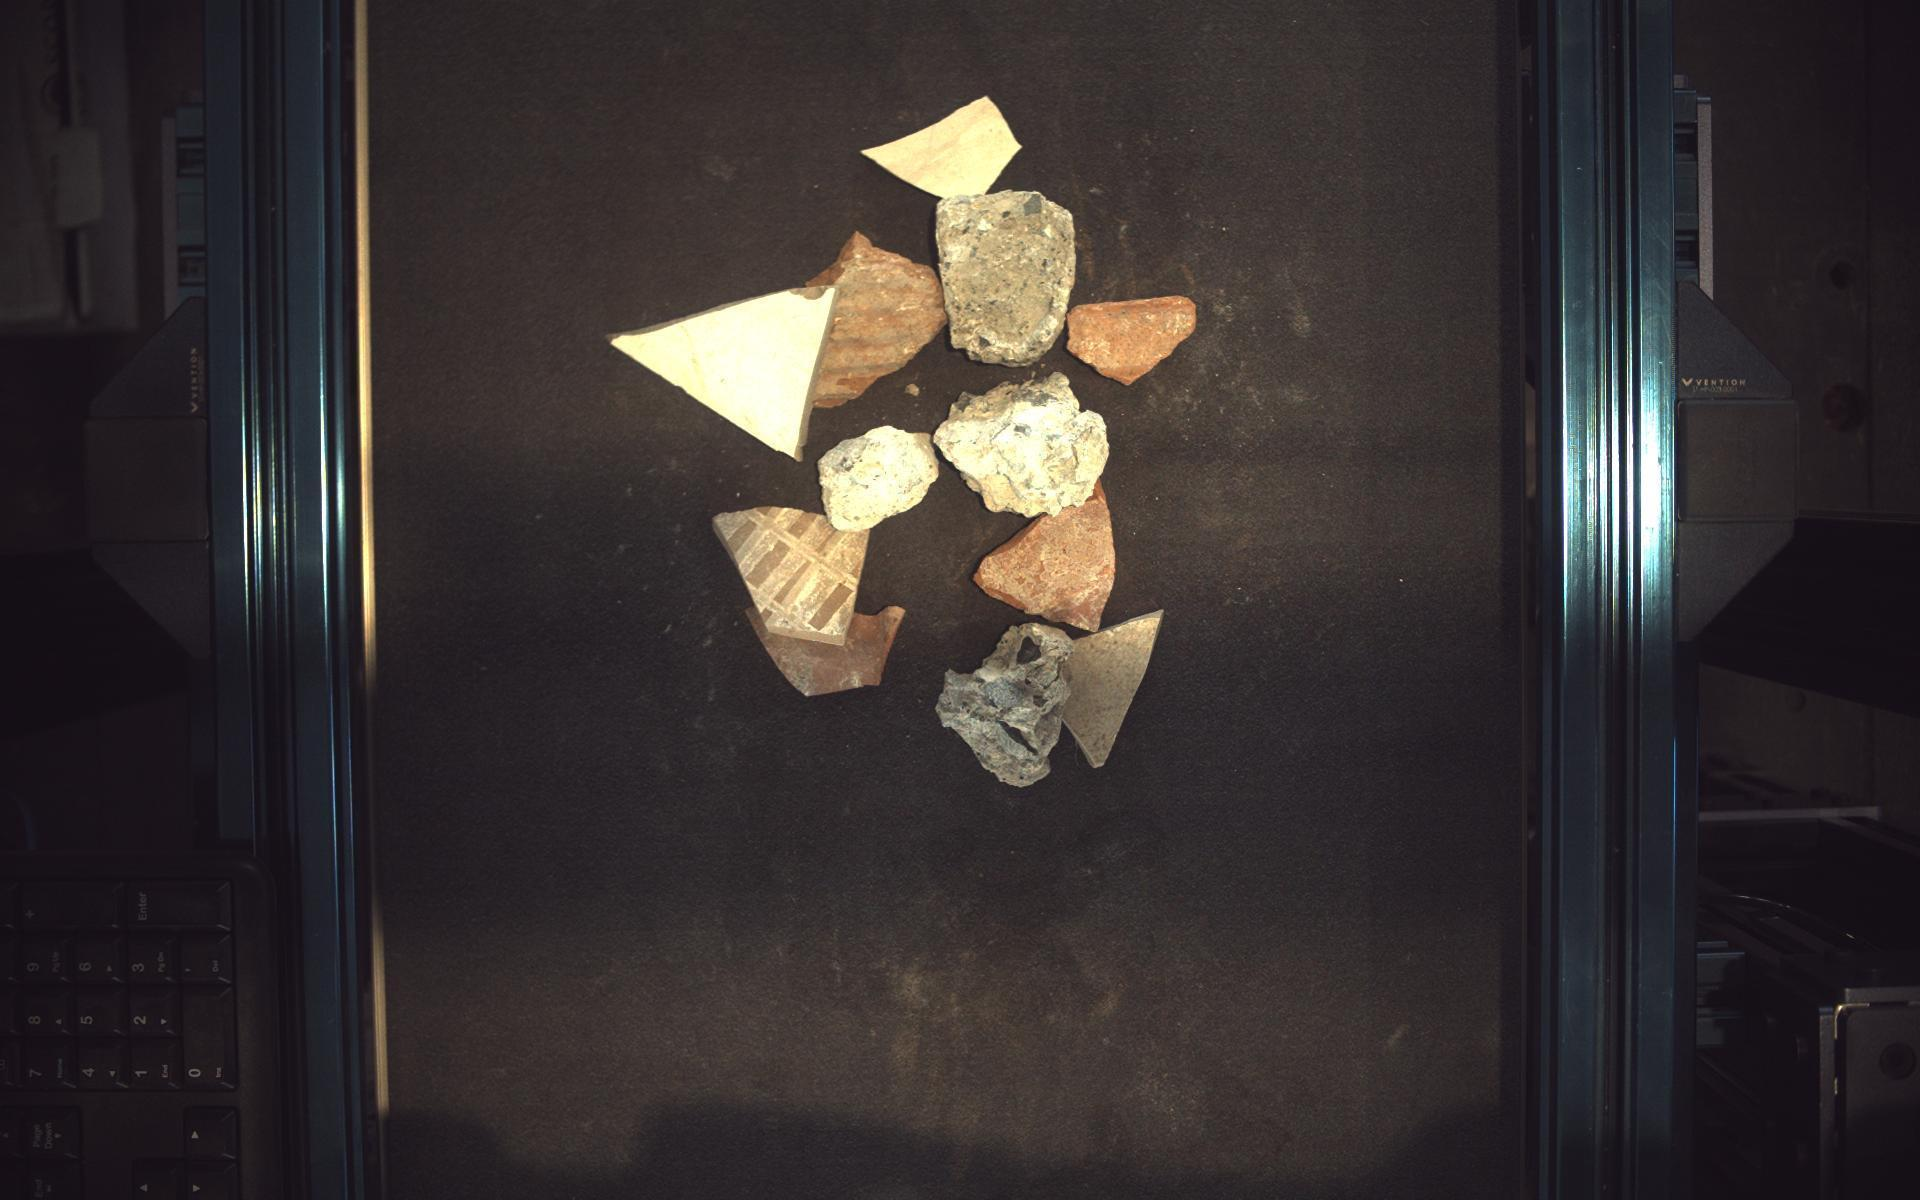brick: (800, 227, 948, 406), (972, 478, 1117, 632), (744, 603, 905, 697), (1064, 292, 1198, 384)
concrete: (932, 369, 1111, 517), (934, 187, 1078, 365), (934, 619, 1075, 788), (817, 423, 940, 531)
tile: (608, 282, 838, 460), (710, 503, 869, 646), (860, 93, 1023, 196), (1062, 608, 1167, 769)
